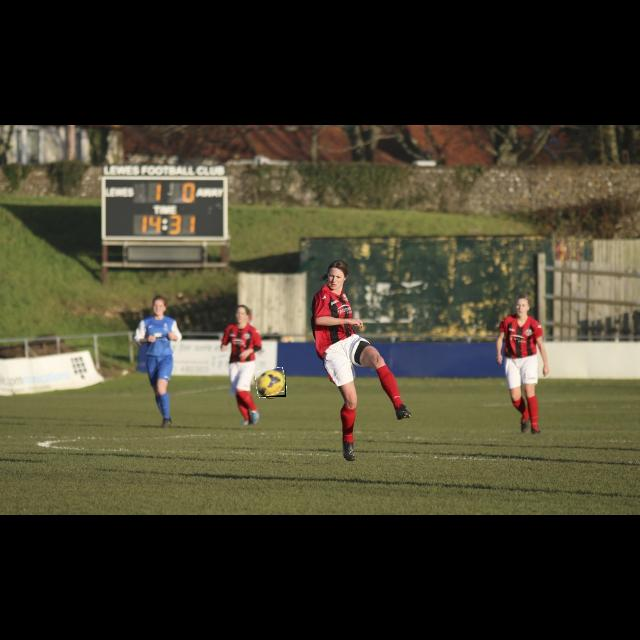Football: (256, 369, 286, 397)
